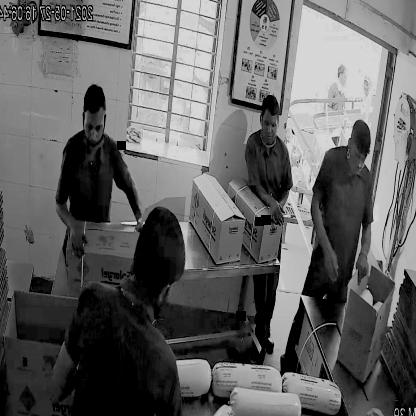no_goggles: (80, 115, 108, 141), (348, 142, 372, 168)
